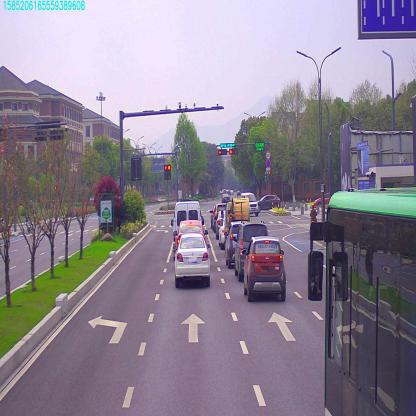traffic-light: (220, 143, 236, 148), (218, 148, 226, 155), (229, 149, 238, 153)
